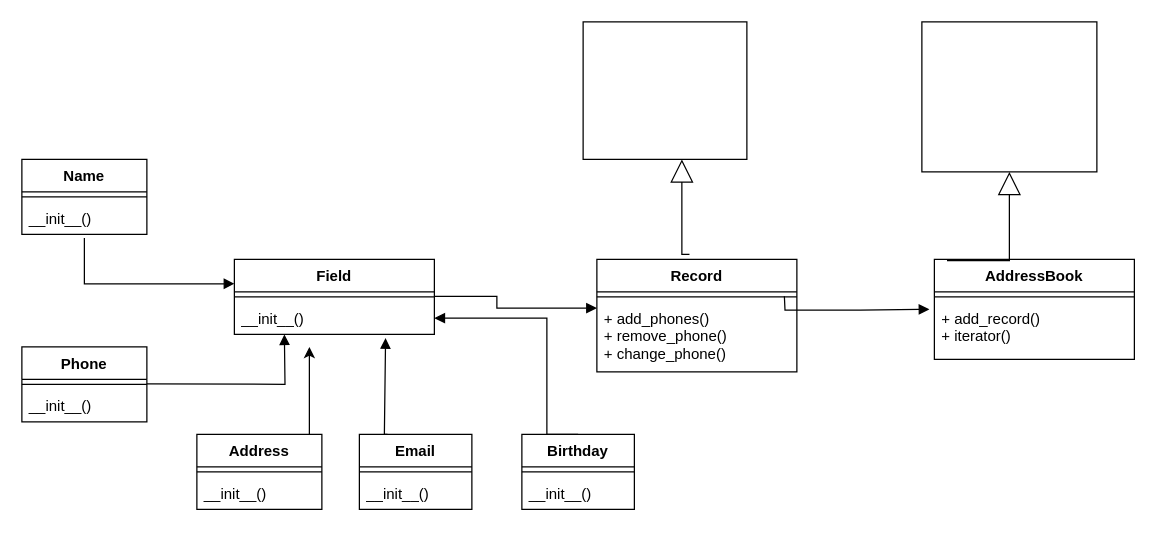
Some shapes in this 1156 by 535 pixel diagram are drawn without their labels. The shapes that lost their labels are listed below. From the top down, each one's centre as x and y in pixels, then its label:
the point at 664,90: <<Interface>> AbstractRecord + add_phones() + remove_phone() + change_phone()
the point at 1009,96: <<Interface>> AbstractAddressBook + add_record() + iterator()
